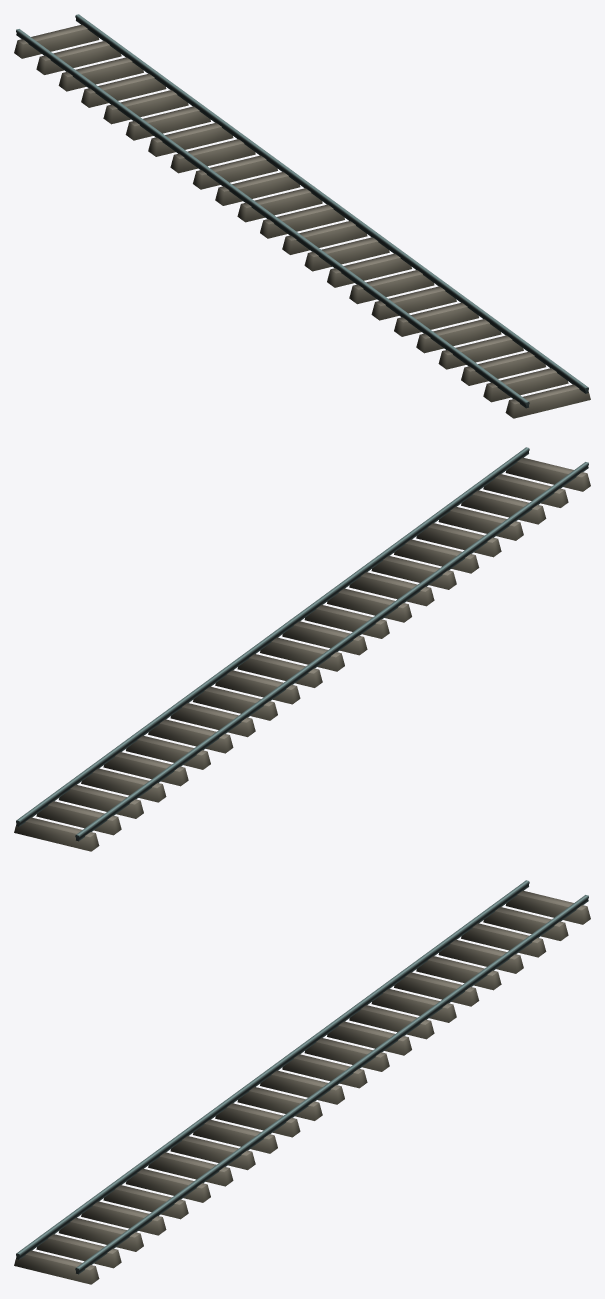
Rendered from Train_Tracks_1A.fbx.
The picture shows the model from 3 angles, top to bottom: view 1: azimuth 30°, elevation 25°; view 2: azimuth 150°, elevation 25°; view 3: azimuth 330°, elevation 25°; orthographic projection.
Visible parts, largest first — view 1: Train_Tracks_1A; view 2: Train_Tracks_1A; view 3: Train_Tracks_1A.
Boxes of the visible parts, x1,y1,x2,y2 form: Train_Tracks_1A: [14, 14, 590, 418]; Train_Tracks_1A: [14, 447, 590, 851]; Train_Tracks_1A: [14, 880, 590, 1284].
Size of the model in its own units: 2.8 by 0.625 by 31.94.
